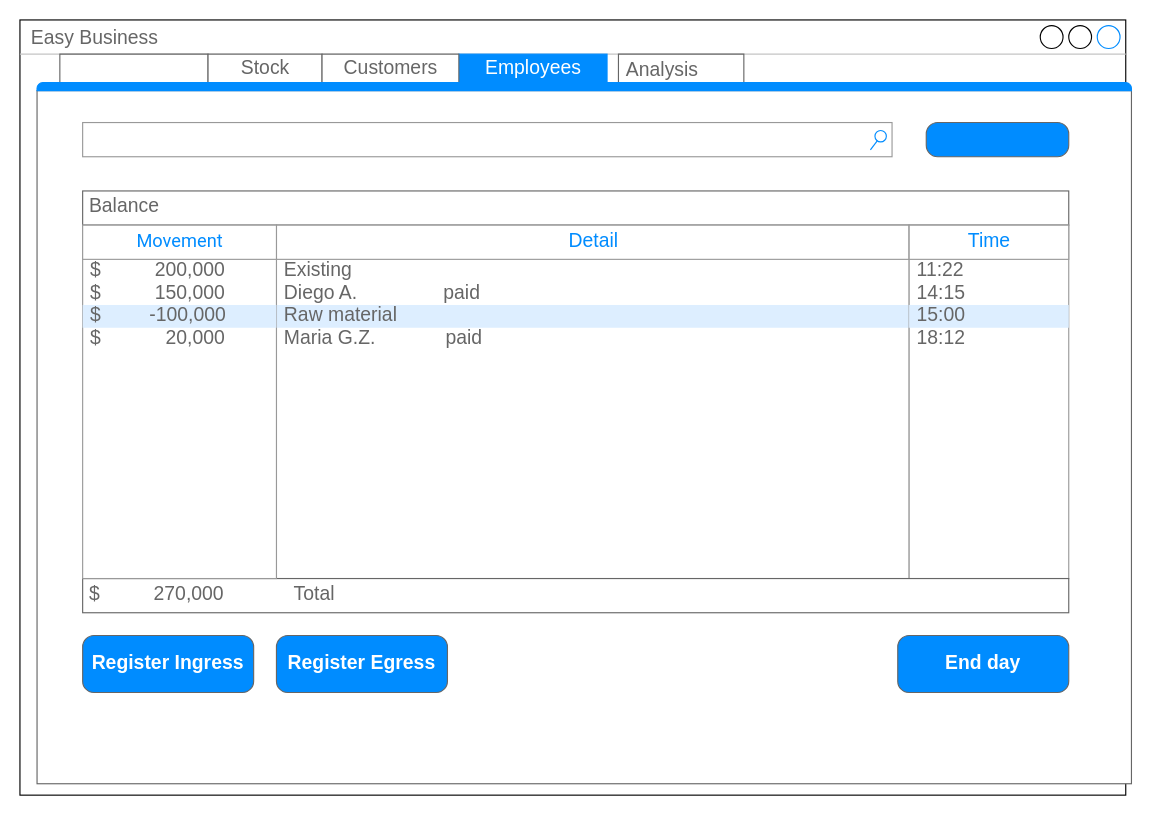
This 1151x815 diagram has some shape labels left out. Each missing label, with the box of its shape:
Cash Register: (59, 53, 208, 88)
Go Today: (925, 121, 1069, 157)
Search registers of day: (82, 121, 892, 157)
